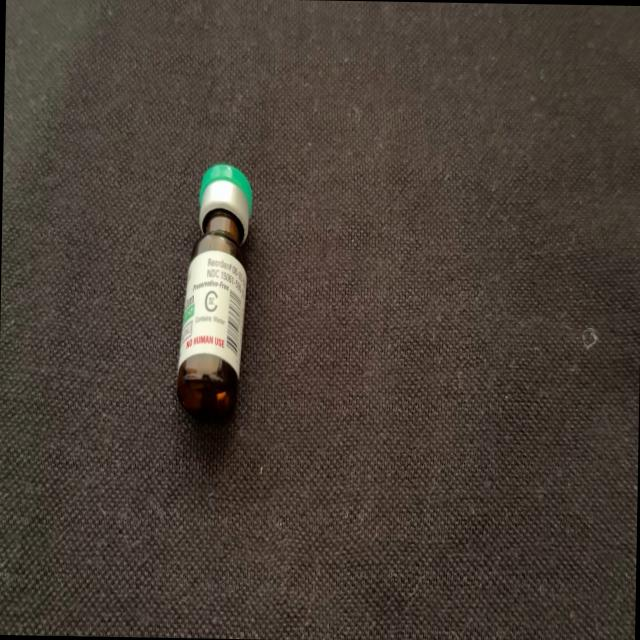midazolm: (176, 168, 252, 416)
